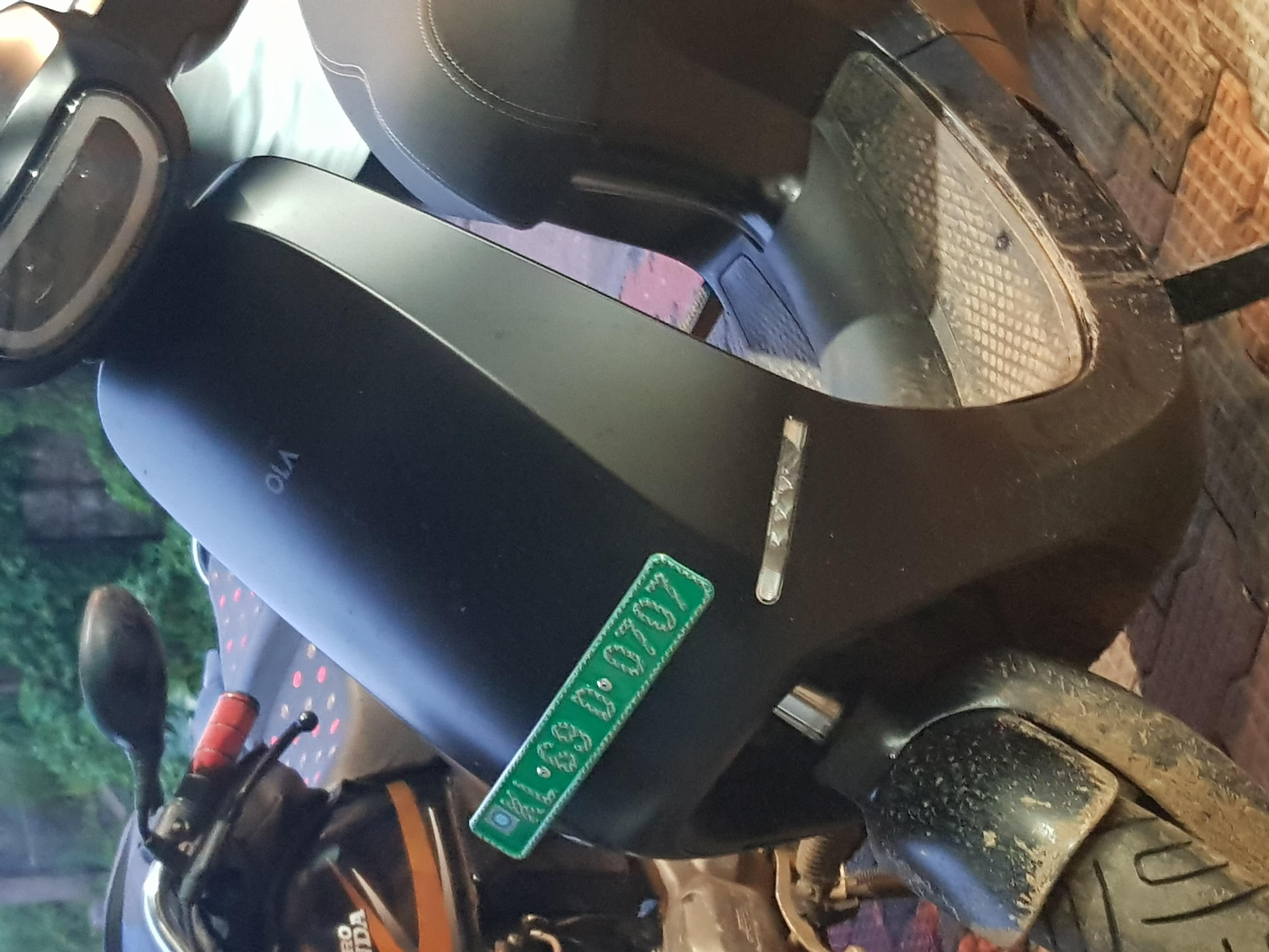green license plate: (113, 348, 538, 537)
